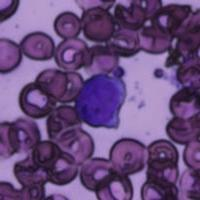L: (75, 73, 126, 128)
